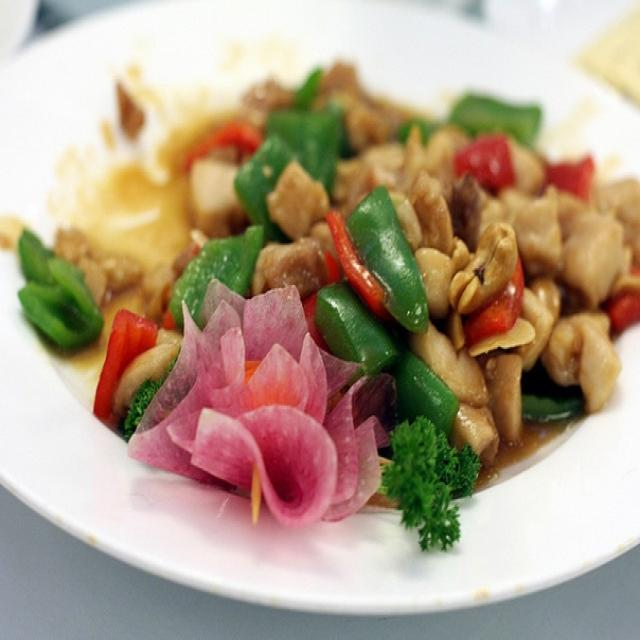鸡肉料理 含炸鸡: (1, 4, 636, 634)
